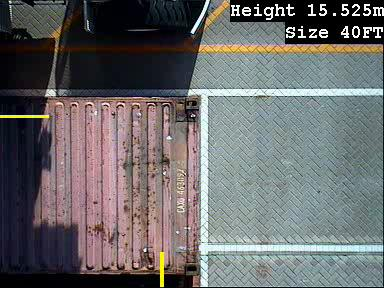groundmarker_2: (100, 72, 166, 119), (99, 213, 165, 260)
